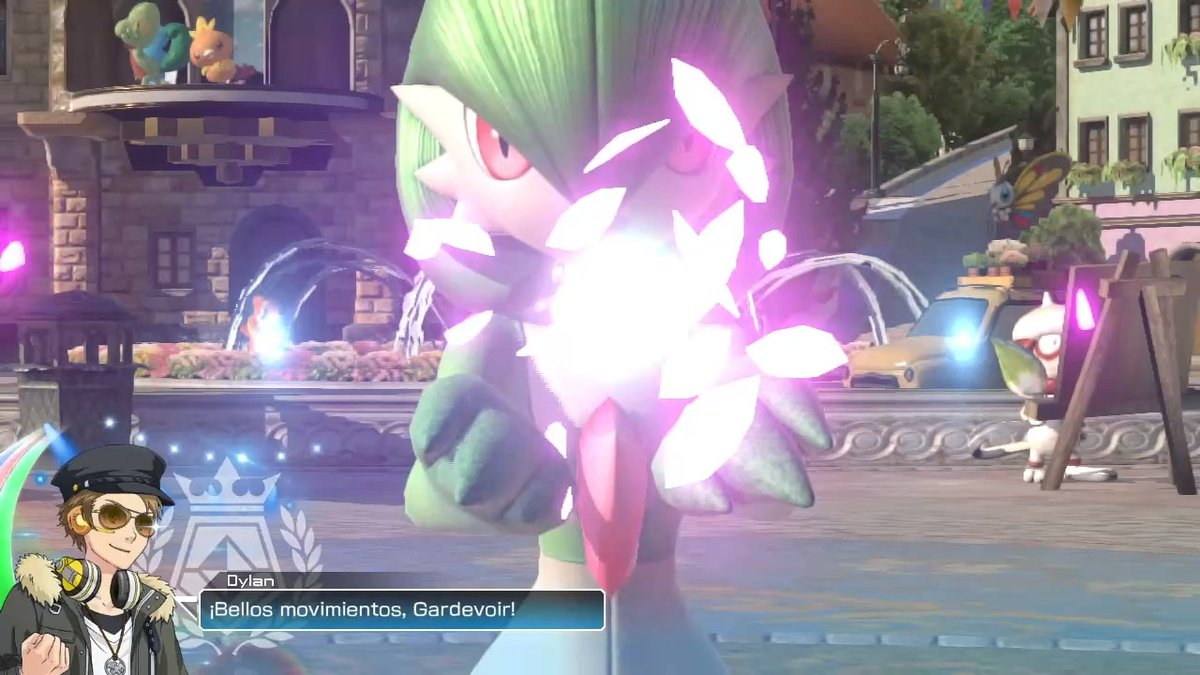gardevoir: (378, 1, 845, 673)
